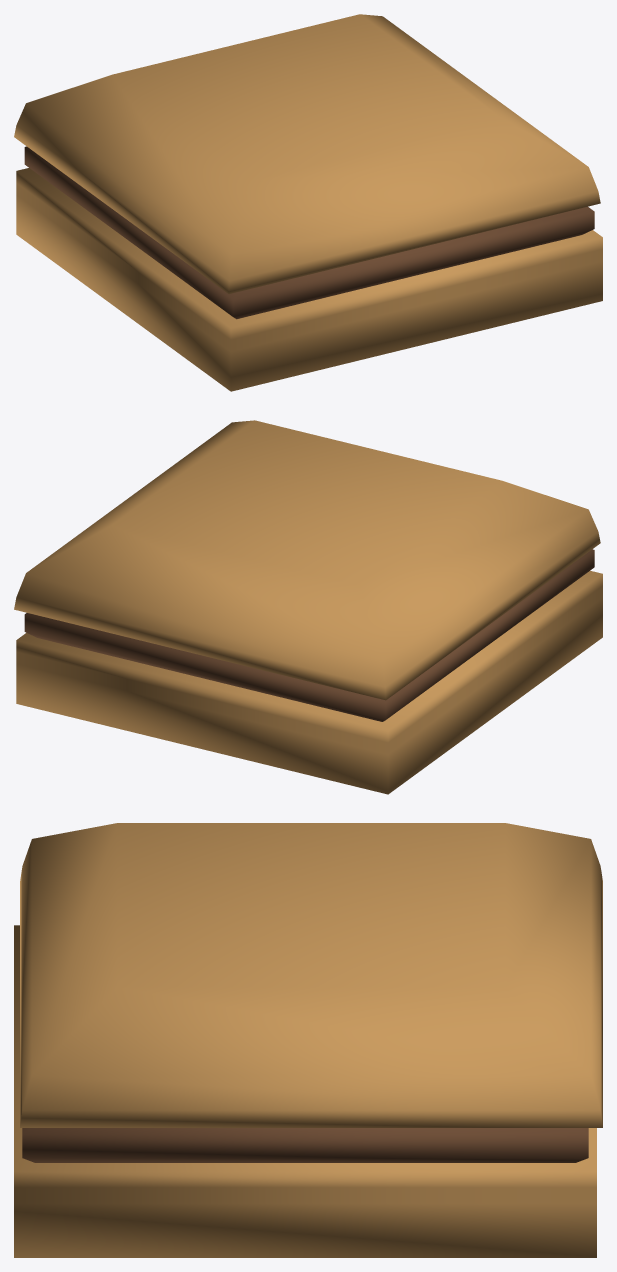
The model's file is hamburger.glb.
3 renders of one model, top to bottom at view 1: azimuth 30°, elevation 25°; view 2: azimuth 150°, elevation 25°; view 3: azimuth 270°, elevation 25°, orthographic. The views are drawn at different scales.
Parts seen in each view (by area): view 1: Cube.002, Cube, Cube.001; view 2: Cube.002, Cube, Cube.001; view 3: Cube.002, Cube, Cube.001.
Boxes of the visible parts, x1,y1,x2,y2 form: Cube.002: (14,14,600,293); Cube: (16,168,602,391); Cube.001: (24,146,594,319); Cube.002: (14,420,600,700); Cube: (16,570,602,794); Cube.001: (24,549,594,721); Cube.002: (20,823,602,1127); Cube: (14,925,596,1257); Cube.001: (22,1128,588,1162).
Bounding box in the file's own units: 8.43 × 3.67 × 8.52.
